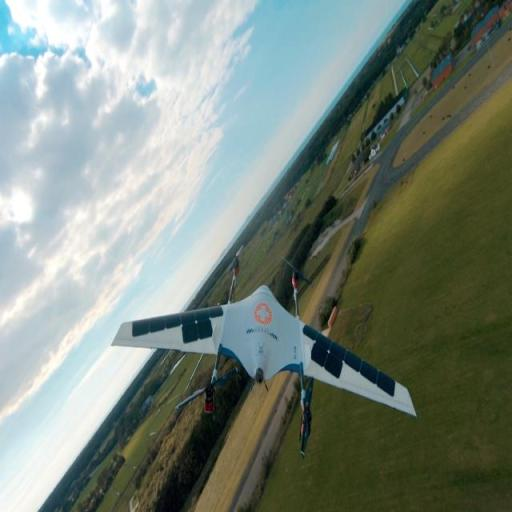uav: (85, 236, 431, 458)
